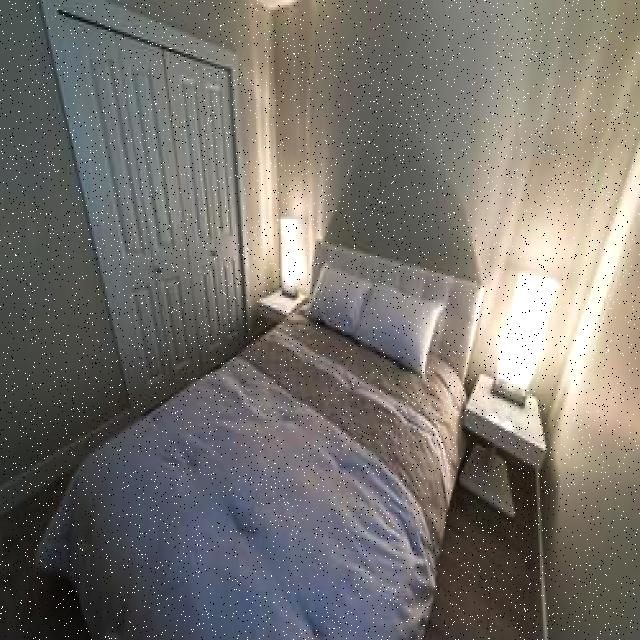bed: (61, 247, 480, 640)
